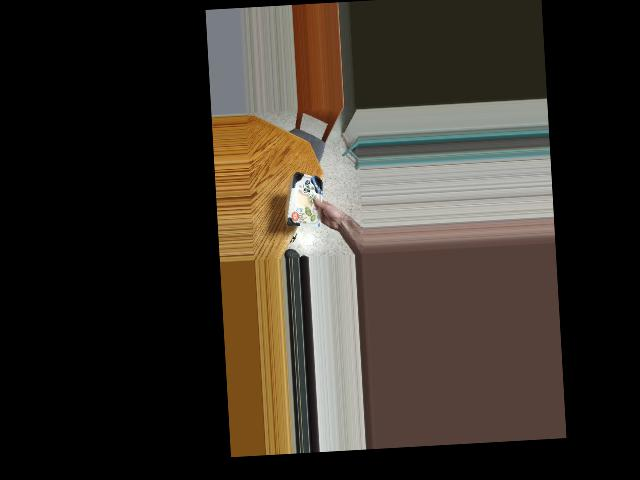cheese: (284, 176, 329, 218)
